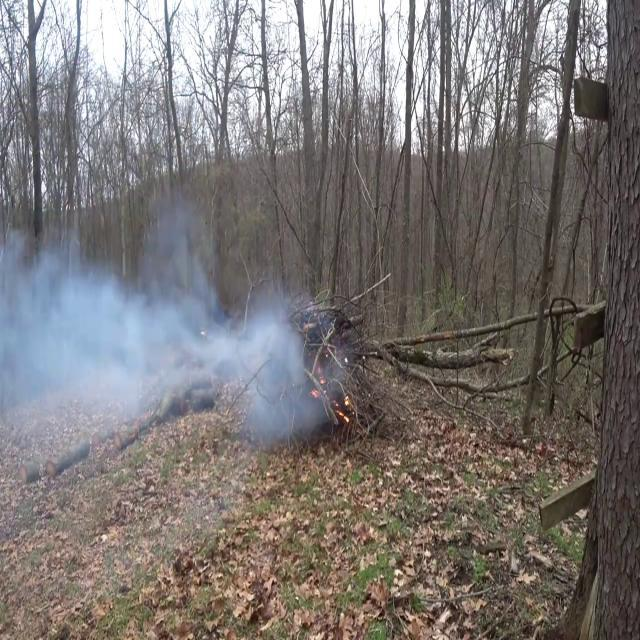Smoke: (0, 188, 318, 466)
